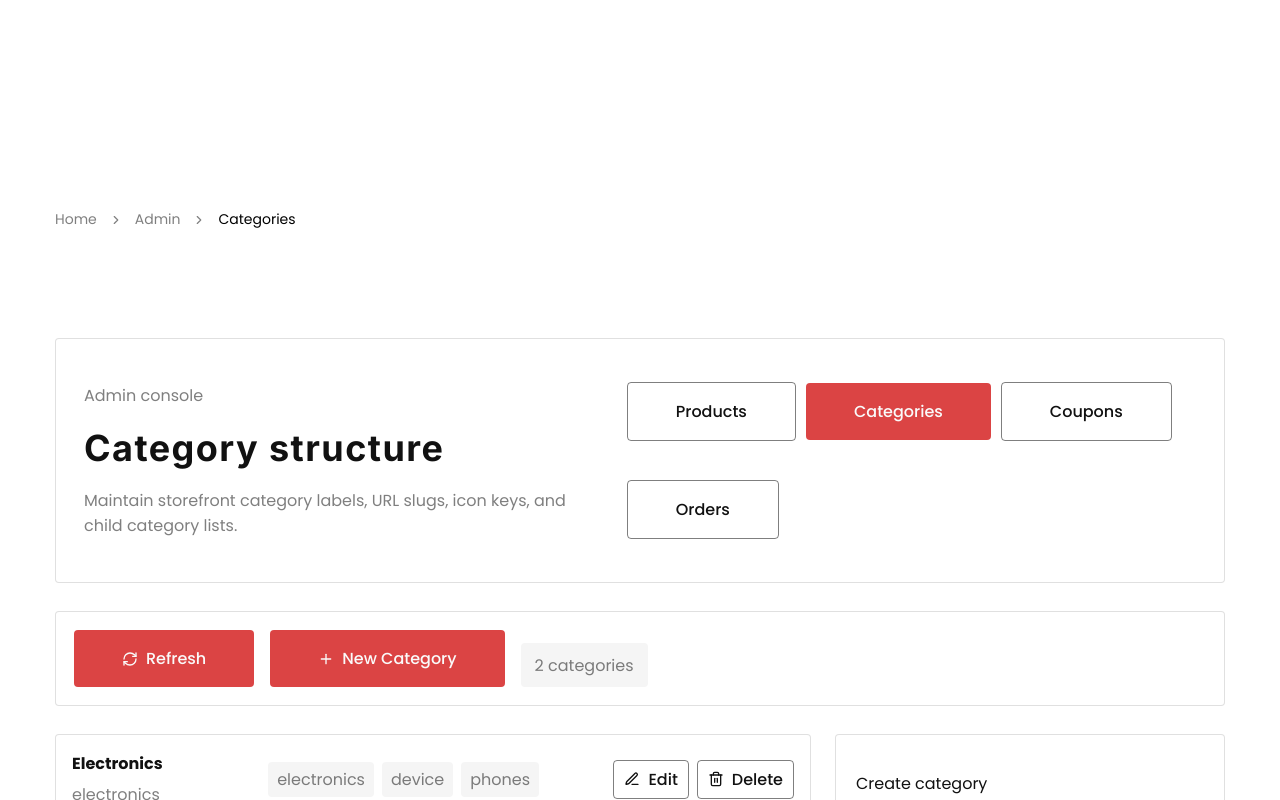
AdminCategoriesPage › deletes a category on success
This screenshot has width=1280, height=800.
Expected: the text "Electronics" is shown, [72,752,163,775]
Click the button "Delete" at (745, 779), box [697,760,794,798]
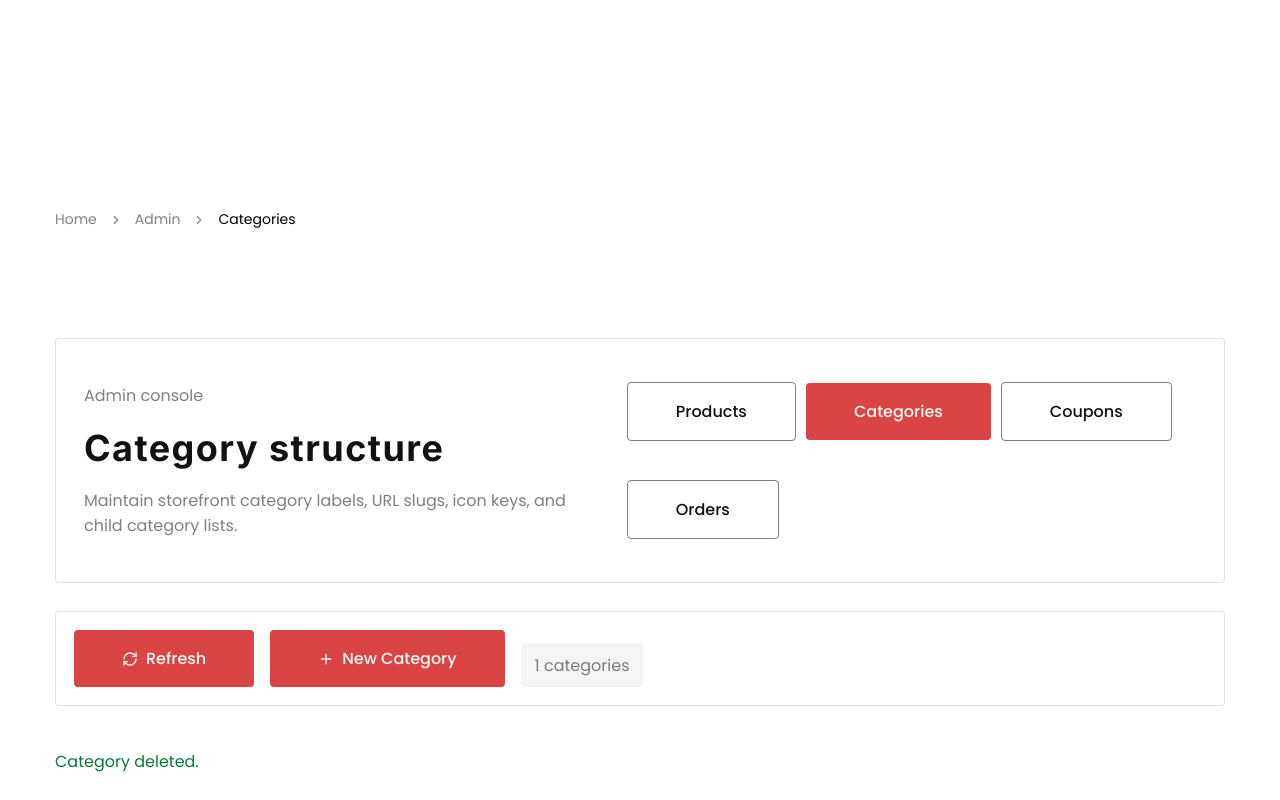
Expected: the text "Electronics" is gone
